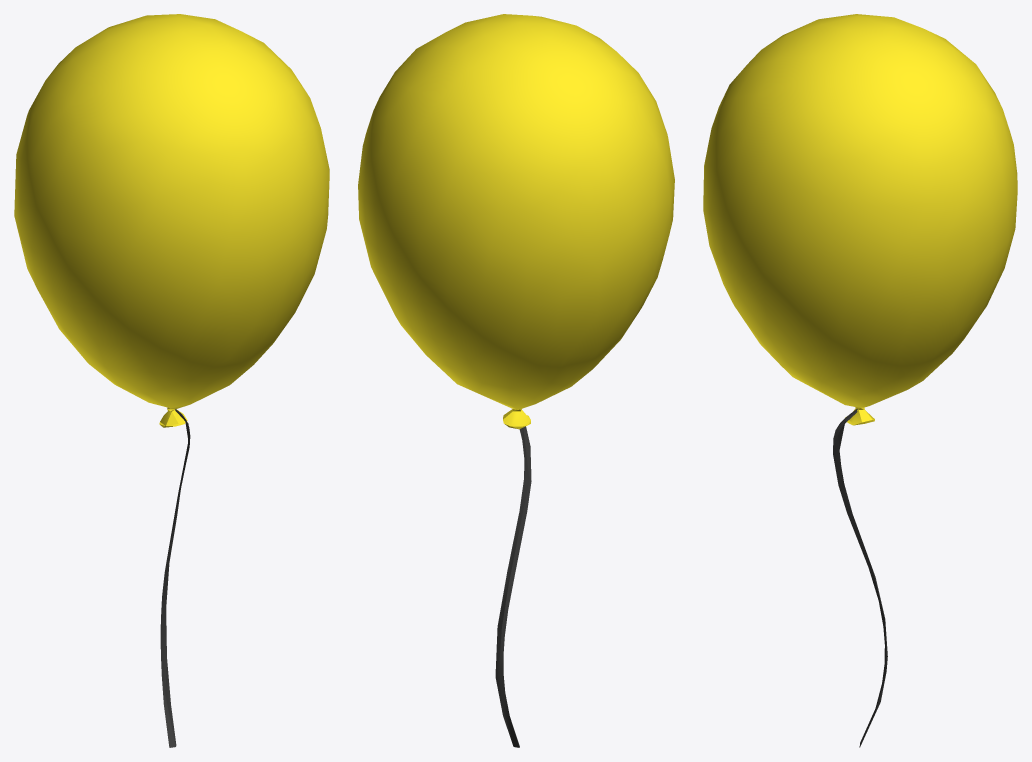
The model's file is Ballong_27.glb.
The picture shows the model from 3 angles, left to right: view 1: azimuth 30°, elevation 25°; view 2: azimuth 150°, elevation 25°; view 3: azimuth 270°, elevation 25°; orthographic projection.
Visible parts, largest first — view 1: Ballonger.051; view 2: Ballonger.051; view 3: Ballonger.051.
Boxes of the visible parts, x1,y1,x2,y2 form: Ballonger.051: (14, 14, 329, 747); Ballonger.051: (358, 14, 674, 747); Ballonger.051: (703, 14, 1017, 747).
Bounding box in the file's own units: 0.3861 × 0.9686 × 0.3847.
